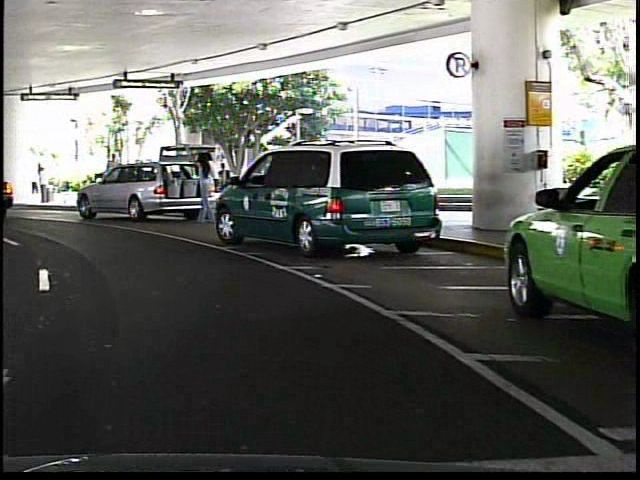person: (183, 155, 231, 213), (193, 148, 213, 227), (99, 149, 122, 202)
